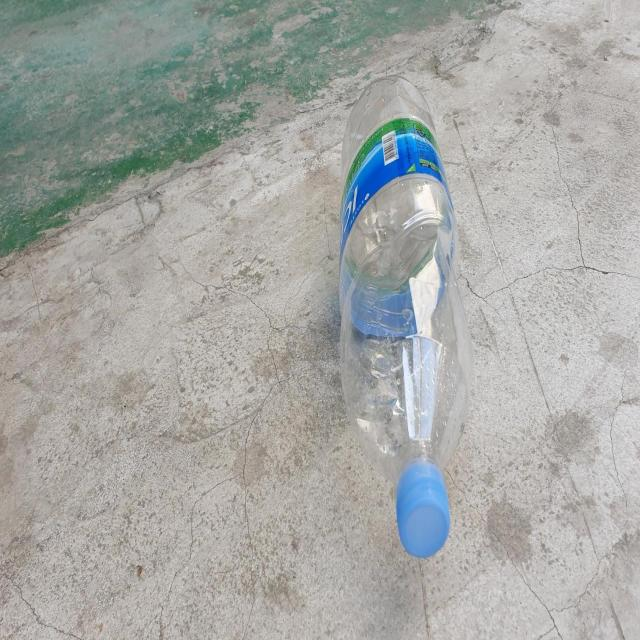plastic: (340, 74, 473, 557)
